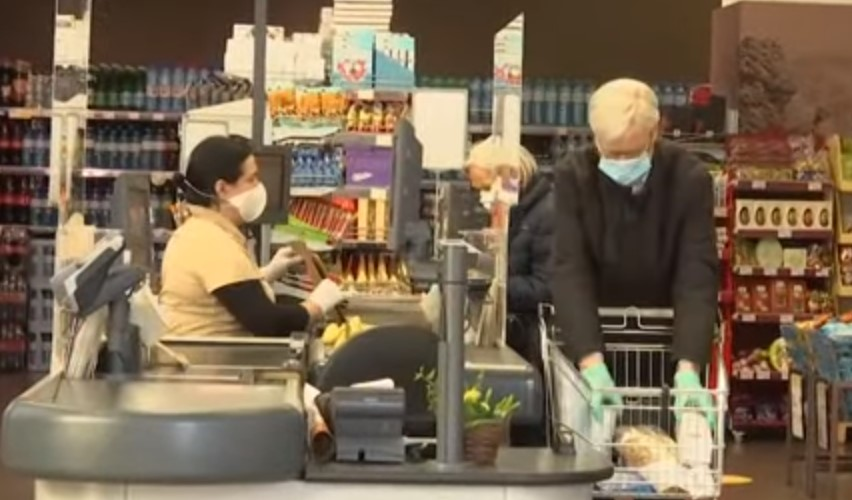face_with_mask: (586, 73, 664, 192), (198, 138, 269, 225), (464, 134, 535, 215)
